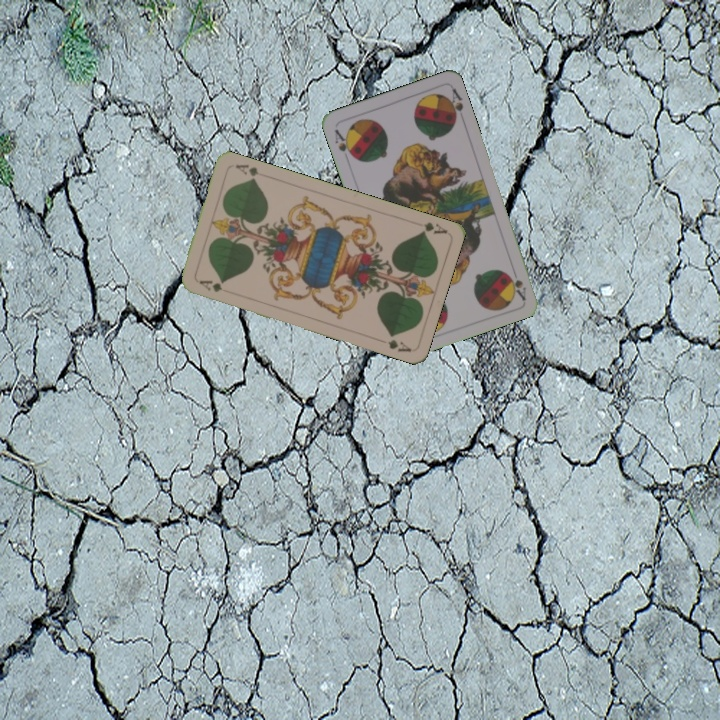GA: (195, 276, 232, 296), (417, 218, 450, 237)
SA: (331, 125, 357, 164), (505, 270, 529, 302)
